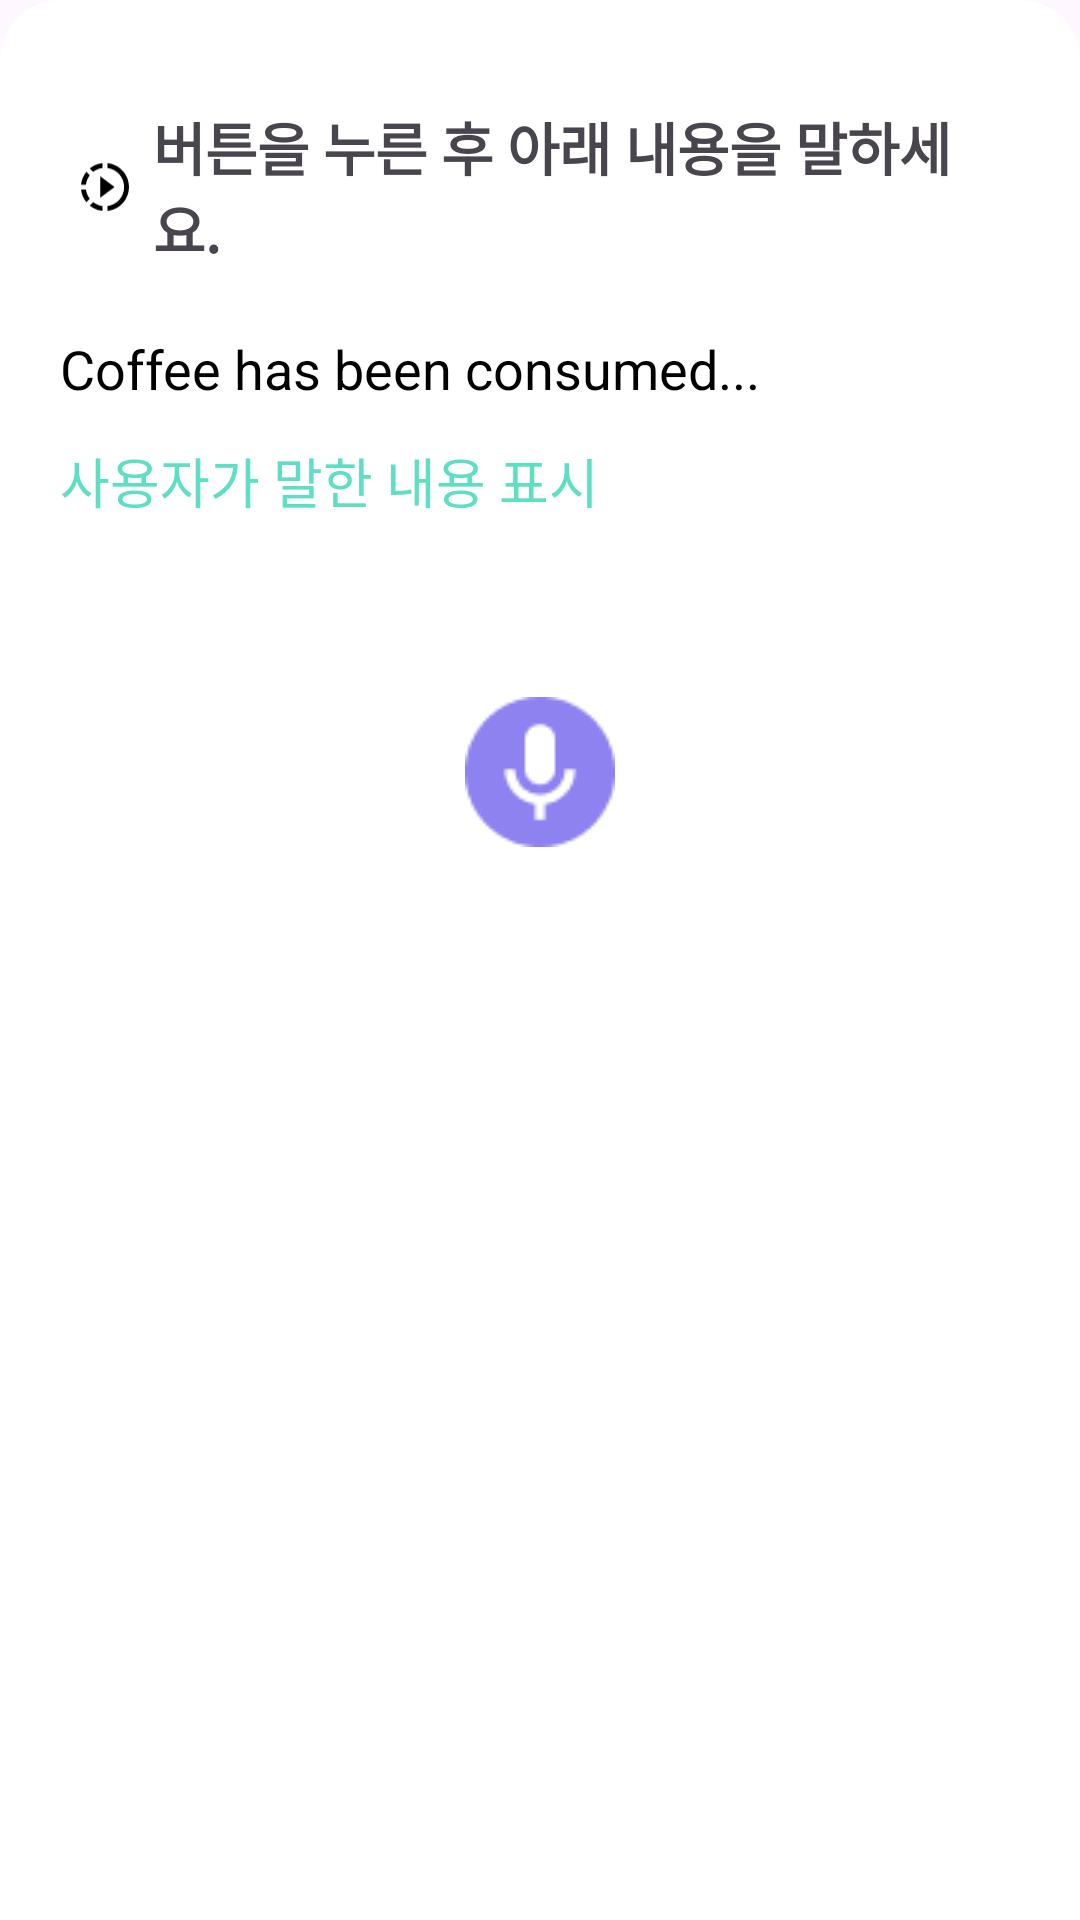

Point at icon controls on the screen. Image size 1080x1920, points as [x,y].
mike: [540,772]
slow motion video: [105,187]
